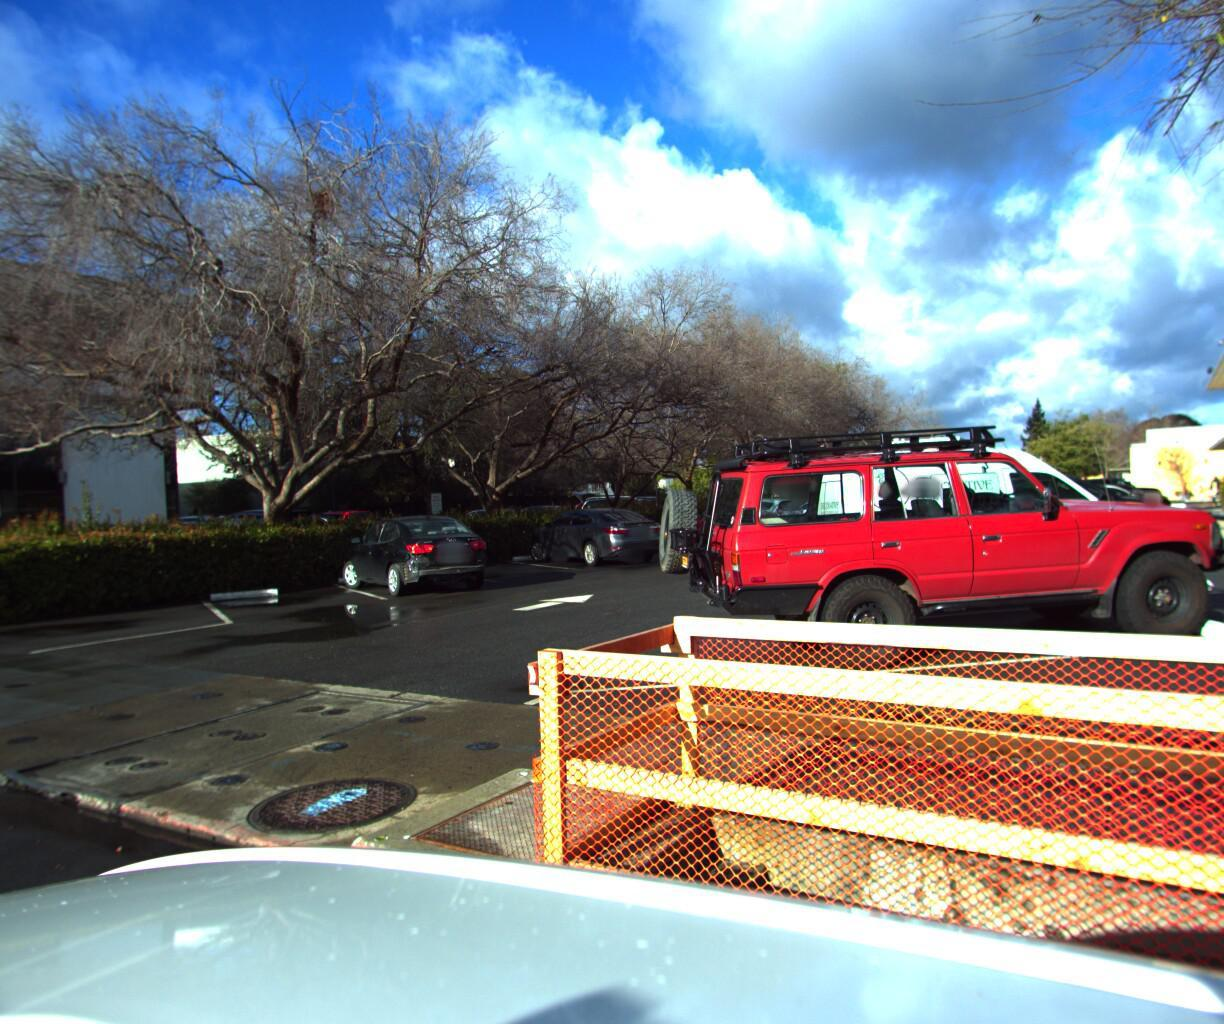car: (645, 413, 1224, 685), (793, 435, 1204, 621), (334, 508, 494, 602)
